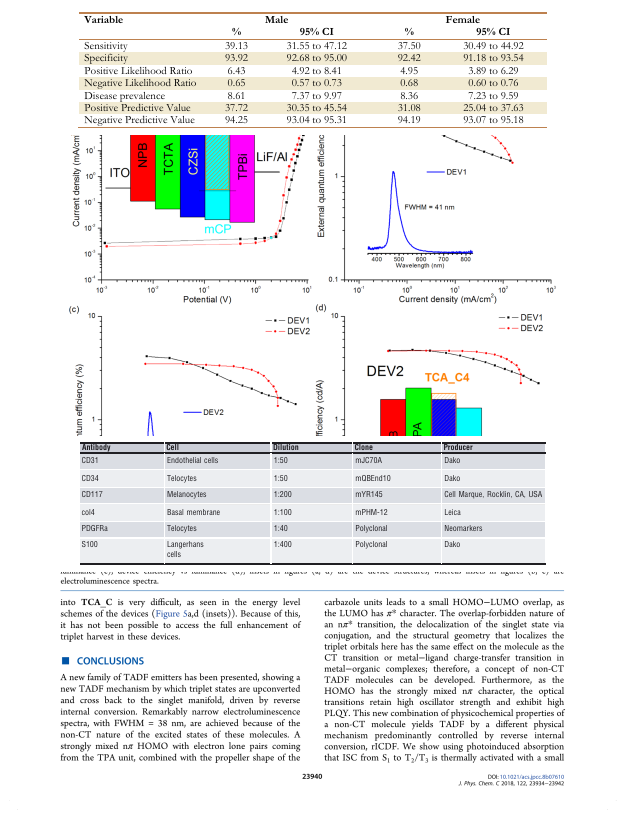borderless: (80, 441, 546, 563), (79, 10, 547, 127)
cell: (83, 78, 197, 90), (83, 115, 195, 127), (83, 65, 193, 77), (83, 103, 191, 115), (443, 490, 543, 500), (83, 90, 165, 102), (165, 540, 204, 560), (285, 41, 347, 53), (462, 41, 524, 53), (285, 53, 347, 65), (462, 53, 524, 65), (285, 103, 347, 115), (462, 103, 524, 115), (285, 115, 347, 127), (462, 115, 524, 127), (290, 65, 342, 77), (467, 65, 519, 77), (290, 78, 342, 90), (467, 78, 519, 90), (290, 90, 342, 102), (467, 90, 519, 102), (83, 41, 128, 53), (83, 53, 128, 65), (165, 508, 221, 517), (165, 456, 219, 465), (165, 490, 207, 500), (83, 14, 124, 24), (443, 524, 483, 534), (444, 14, 480, 24), (354, 524, 388, 534), (354, 540, 388, 550), (354, 474, 391, 483), (298, 27, 334, 36), (475, 27, 511, 36), (165, 524, 197, 534), (80, 443, 111, 453), (442, 443, 473, 453), (354, 508, 388, 517), (223, 41, 248, 53), (396, 41, 421, 53), (223, 53, 248, 65), (396, 53, 421, 65), (223, 103, 248, 115), (396, 103, 421, 115), (223, 115, 248, 127), (396, 115, 421, 127), (354, 490, 383, 500), (165, 474, 197, 483), (271, 443, 299, 453), (80, 524, 108, 534), (263, 14, 289, 24), (354, 456, 382, 465), (226, 65, 246, 77), (226, 78, 246, 90), (226, 90, 246, 102), (80, 490, 103, 500), (399, 65, 418, 77), (399, 78, 418, 90), (399, 90, 418, 102), (353, 443, 373, 453), (272, 490, 292, 500), (272, 540, 292, 550), (272, 508, 292, 517), (80, 540, 98, 550), (443, 540, 461, 550), (80, 456, 99, 465), (80, 474, 99, 483), (443, 456, 461, 465), (443, 474, 461, 483), (443, 508, 461, 517), (272, 524, 288, 534), (272, 456, 288, 465), (272, 474, 288, 483), (165, 443, 179, 453), (80, 508, 95, 517), (230, 27, 241, 36), (403, 27, 414, 36)
